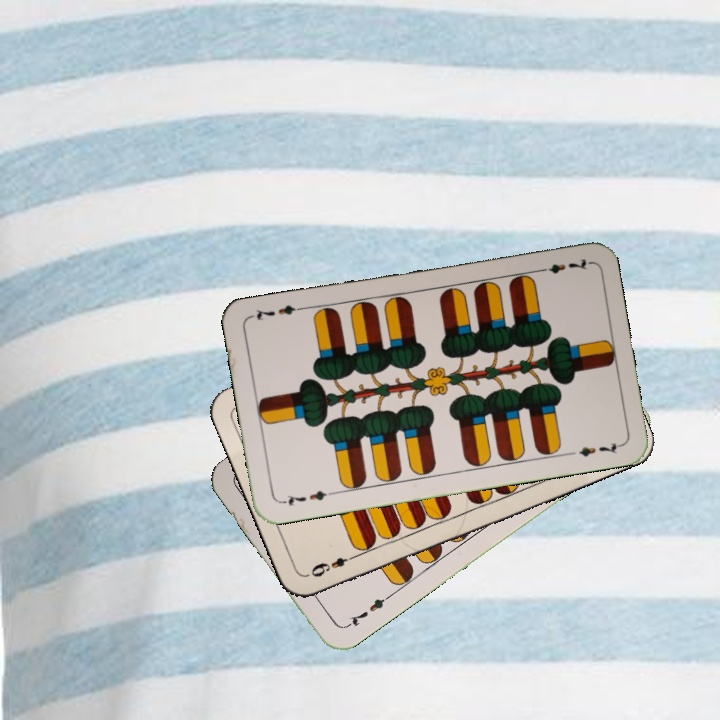E7: (341, 591, 393, 631), (277, 486, 336, 509), (533, 254, 592, 277)
E9: (304, 550, 361, 580)
